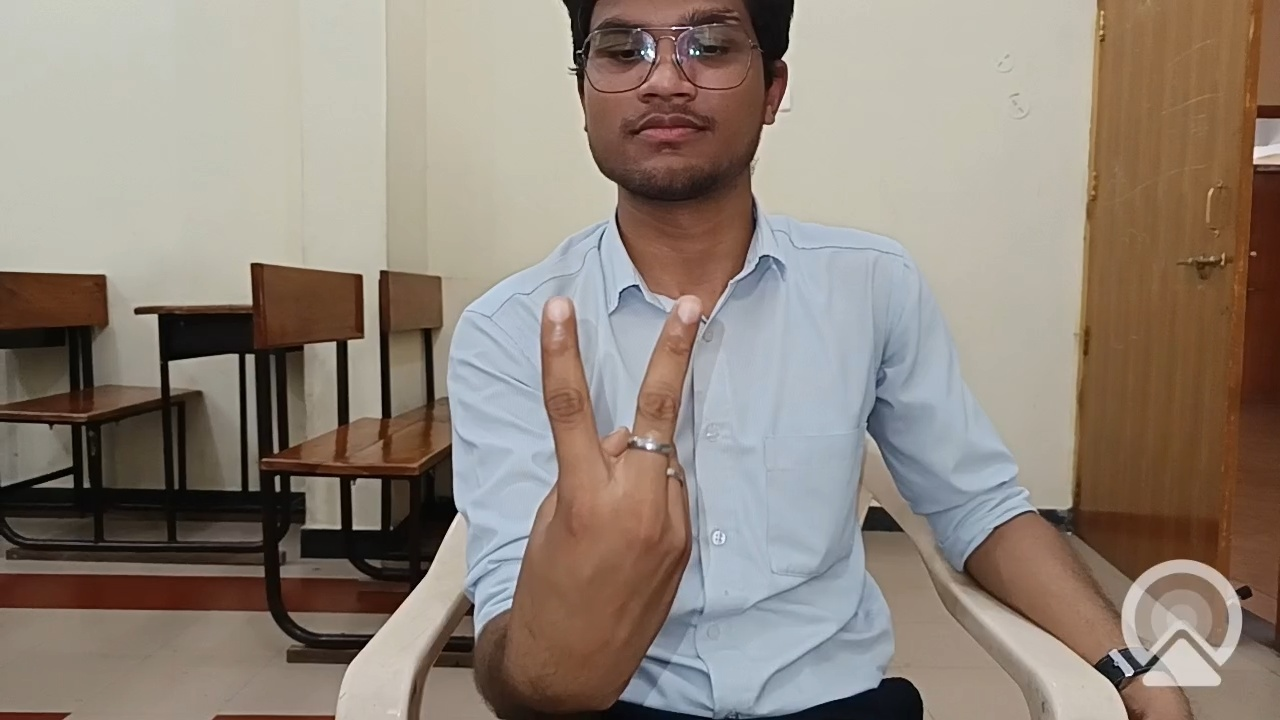V: (484, 269, 741, 703)
